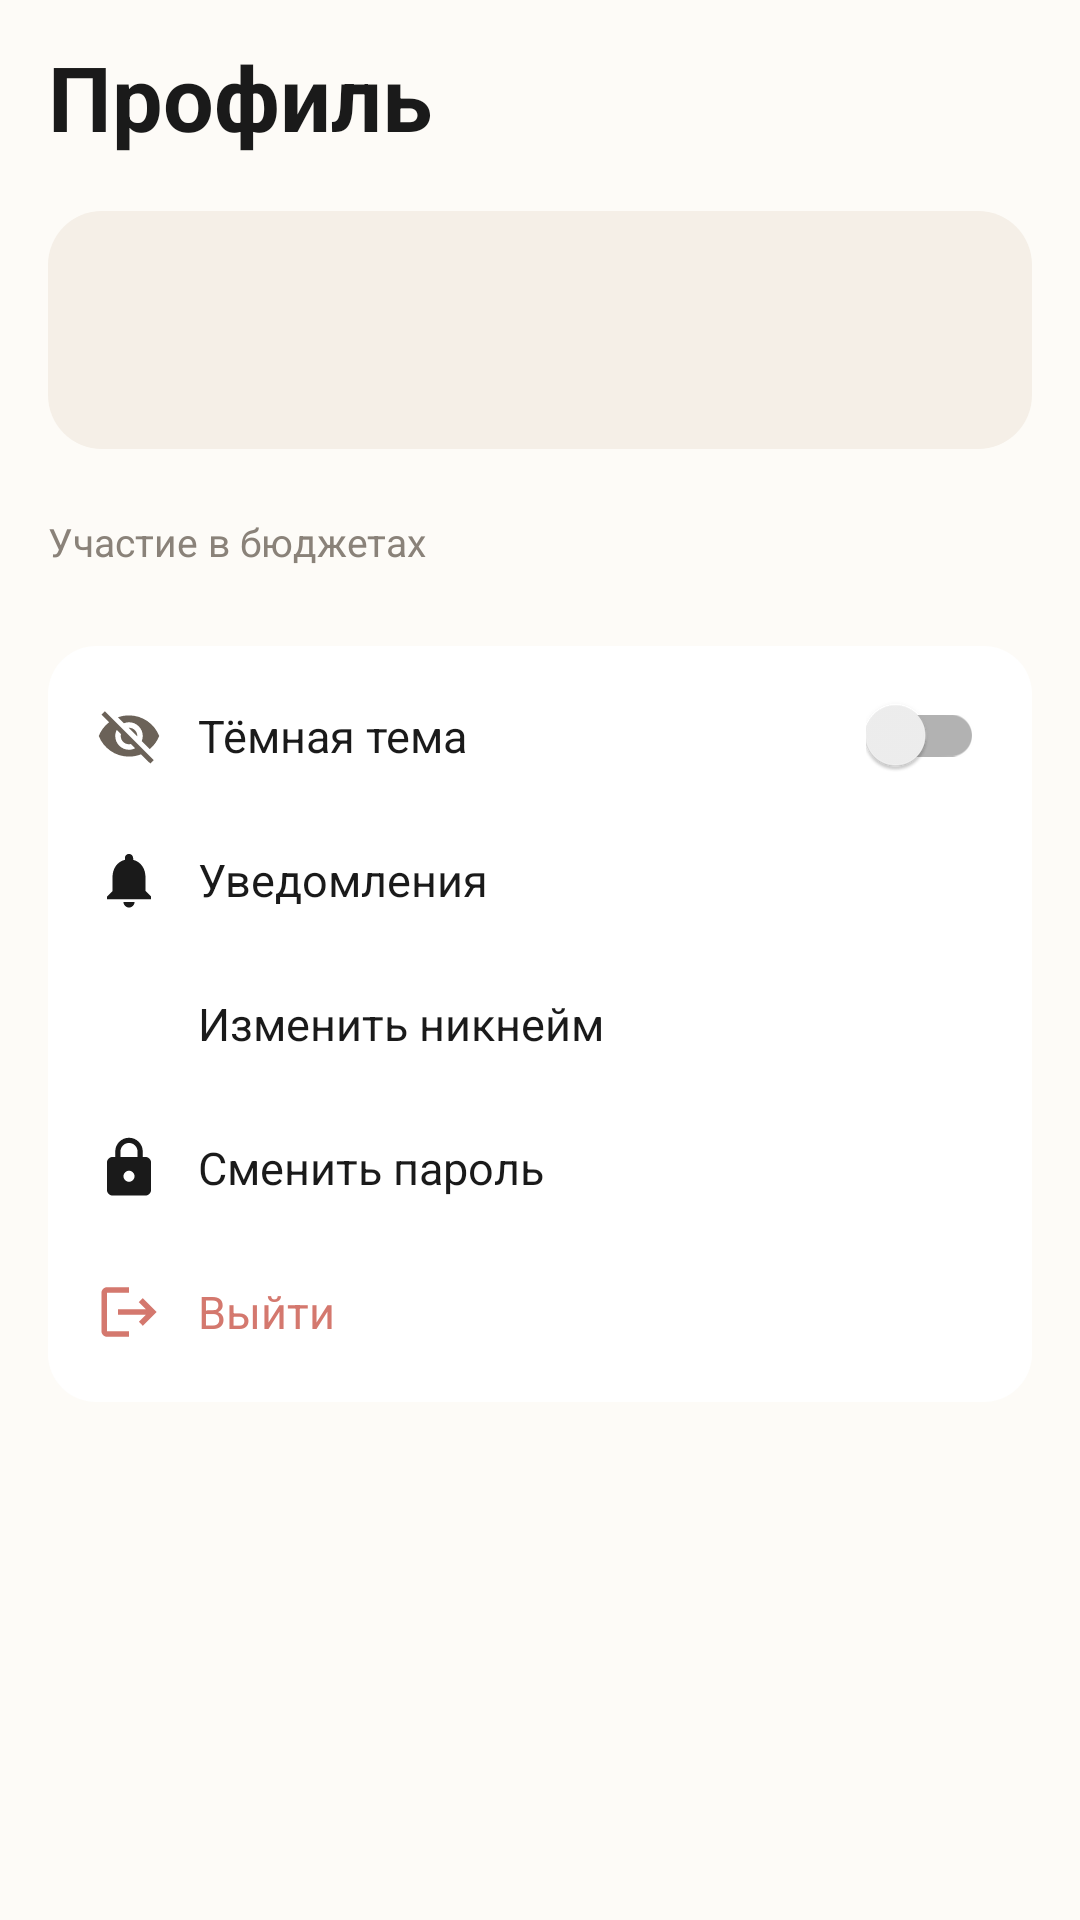

Point at icon controls on the screen. Image size 1080*1920, points as [x,y].
lock: [129,1166]
notifications: [129,881]
visibility off: [129,737]
